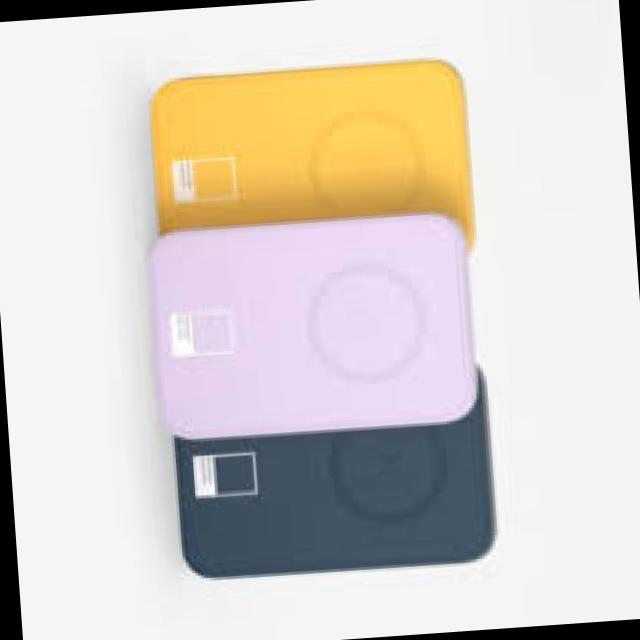power_bank: (140, 207, 478, 445), (162, 364, 500, 586), (148, 54, 480, 274)
